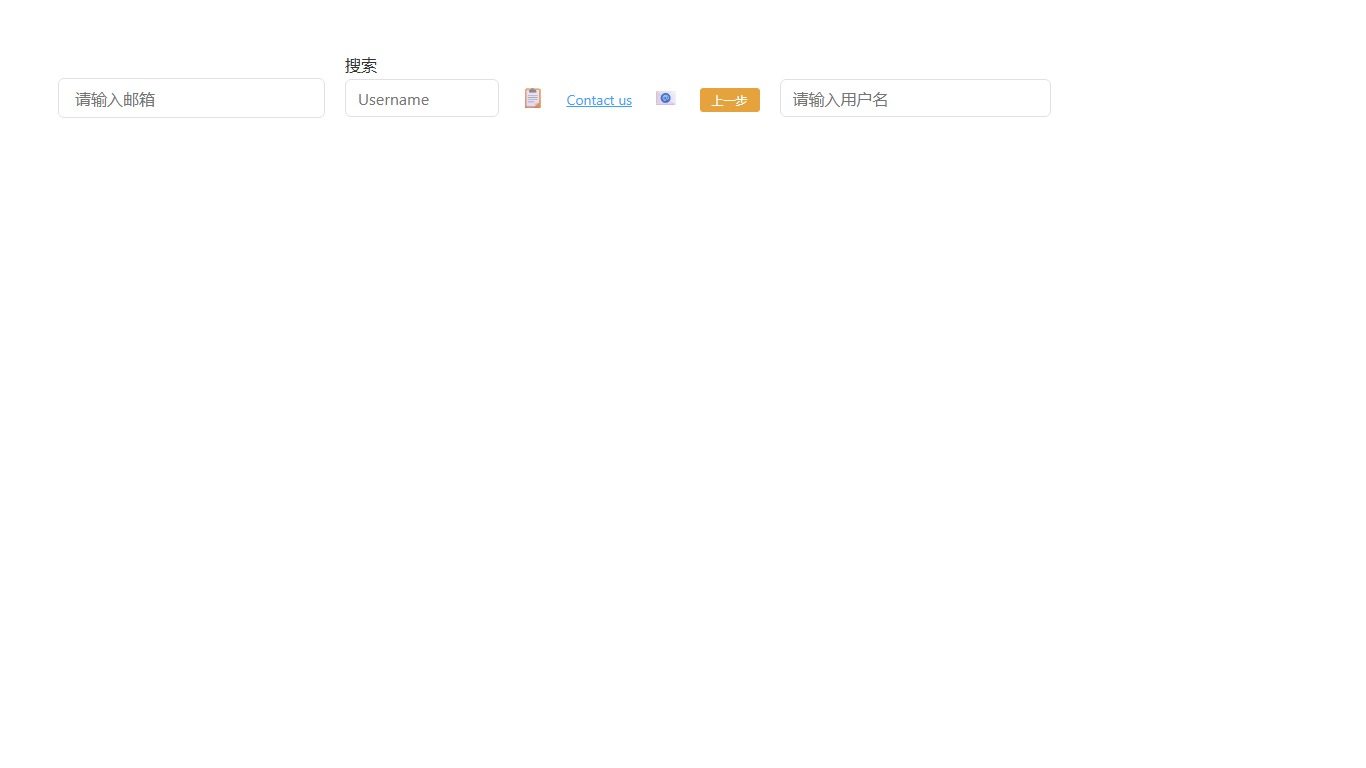button: (700, 87, 760, 111)
icon: (652, 86, 680, 107), (519, 86, 546, 107)
input: (58, 78, 325, 118), (780, 79, 1051, 117), (345, 79, 499, 117)
link: (566, 89, 632, 108)
